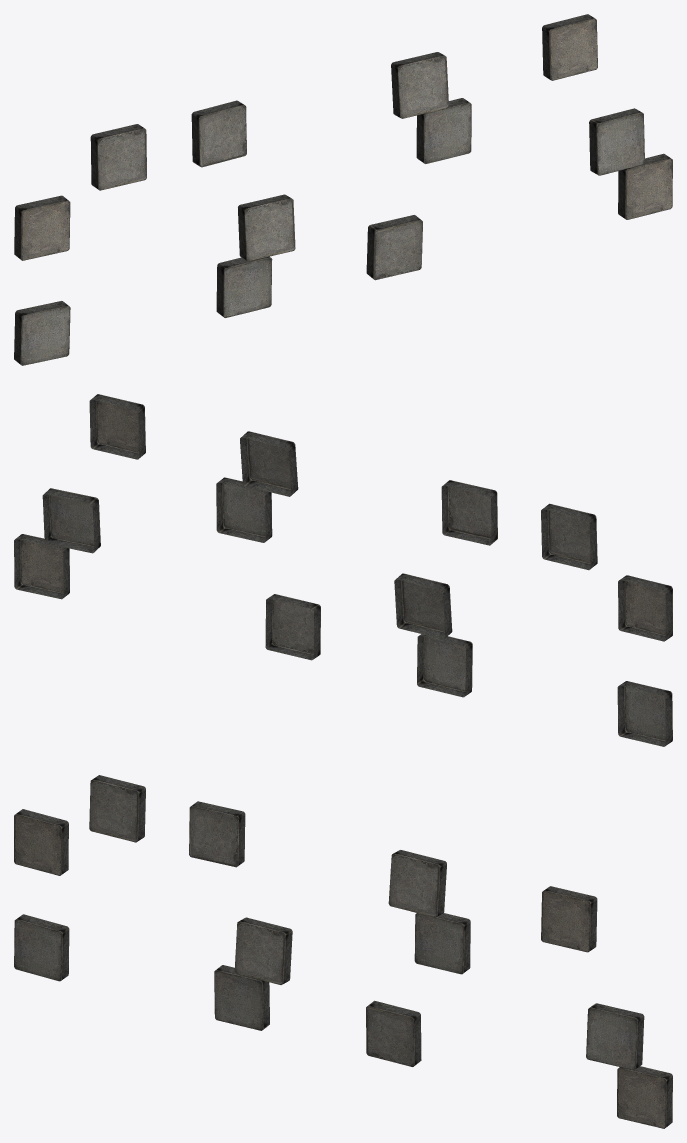
File: hd_dec_UNI_003_PavingDirected_horizontal_04.glb
The picture shows the model from 3 angles, top to bottom: view 1: azimuth 30°, elevation 25°; view 2: azimuth 150°, elevation 25°; view 3: azimuth 330°, elevation 25°; orthographic projection.
Parts seen in each view (by area): view 1: set_0_group_0; view 2: set_0_group_0; view 3: set_0_group_0.
Boxes of the visible parts, x1,y1,x2,y2 form: set_0_group_0: (14,14,672,365); set_0_group_0: (14,394,672,746); set_0_group_0: (14,775,672,1128).
Size of the model in its own units: 6.5 by 1.99 by 0.1767.
Materials: 1 (1 with a texture image).
